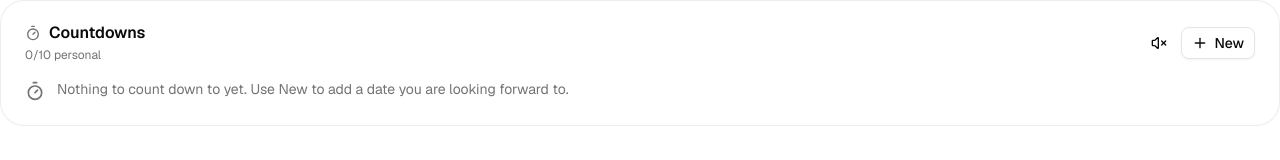
CountdownsCard › arms and mutes the alarm sound from the header button
Click the button named "Alarm sound" at (1159, 43), box [1141,25,1177,61]
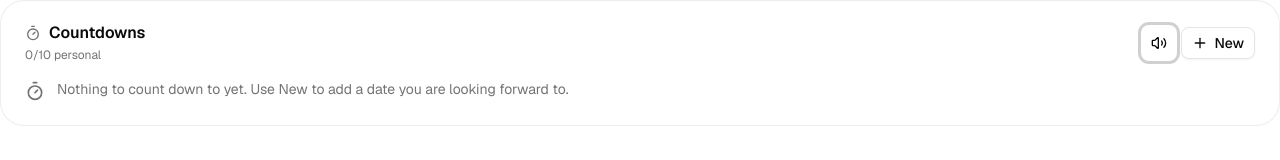
expect the button named "Alarm sound" is pressed: met
expect the button named "Alarm sound" has attribute title="Alarm sound is on": met
Click the button named "Alarm sound" at (1159, 43), box [1141,25,1177,61]
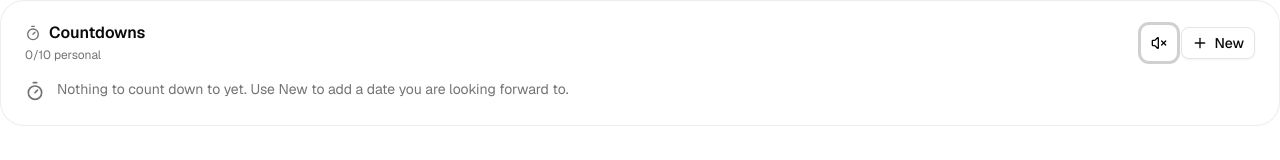
expect the button named "Alarm sound" is not pressed: met, box [1141,25,1177,61]
